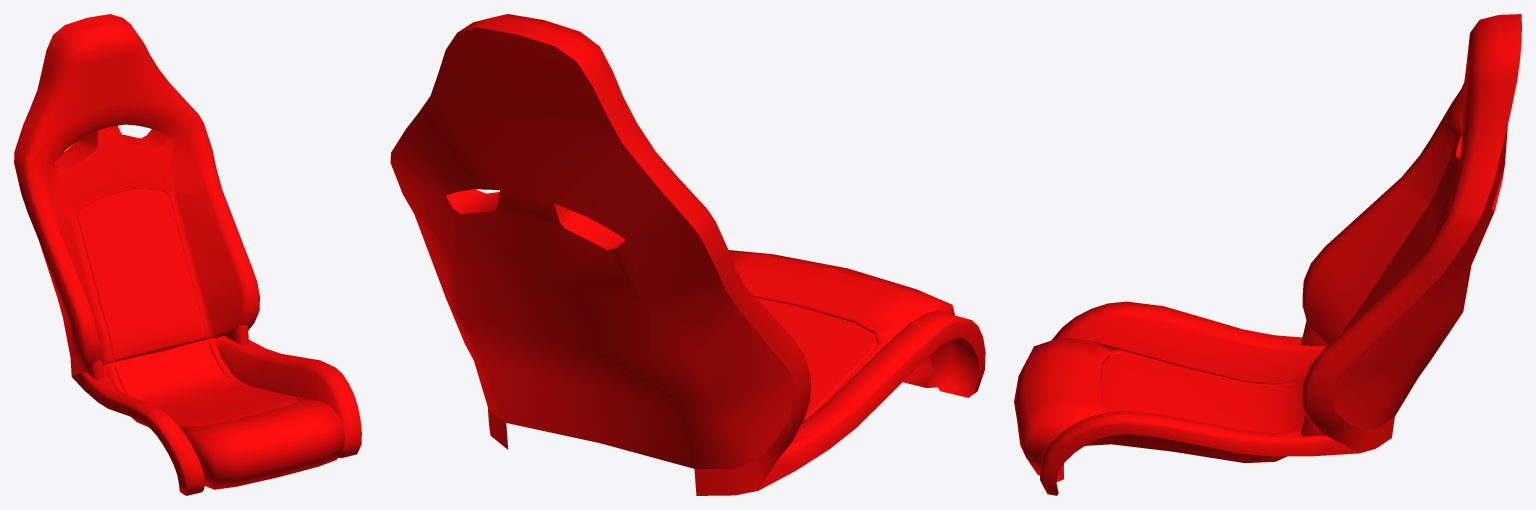
The model's file is Veyron_Seat01_Trim.fbx.
3 views of the same model, side by side, from view 1: azimuth 30°, elevation 25°; view 2: azimuth 150°, elevation 25°; view 3: azimuth 270°, elevation 25° (orthographic). The views are drawn at different scales.
Visible parts, largest first — view 1: Veyron_Seat01_Trim; view 2: Veyron_Seat01_Trim; view 3: Veyron_Seat01_Trim.
Part boxes in pixels (x1=…): Veyron_Seat01_Trim: x1=14, y1=14, x2=361, y2=495; Veyron_Seat01_Trim: x1=390, y1=14, x2=985, y2=495; Veyron_Seat01_Trim: x1=1014, y1=14, x2=1521, y2=495.
Size of the model in its own units: 48.4 by 78.51 by 86.63.
